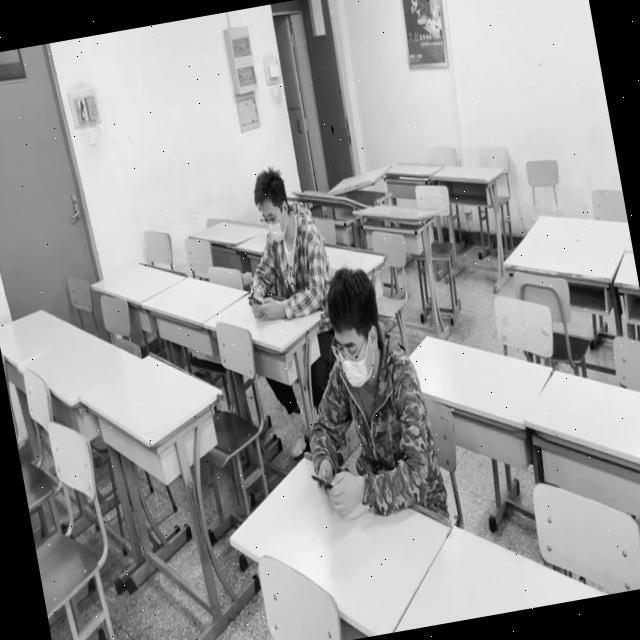phone: (286, 304, 439, 521), (229, 169, 328, 320)
